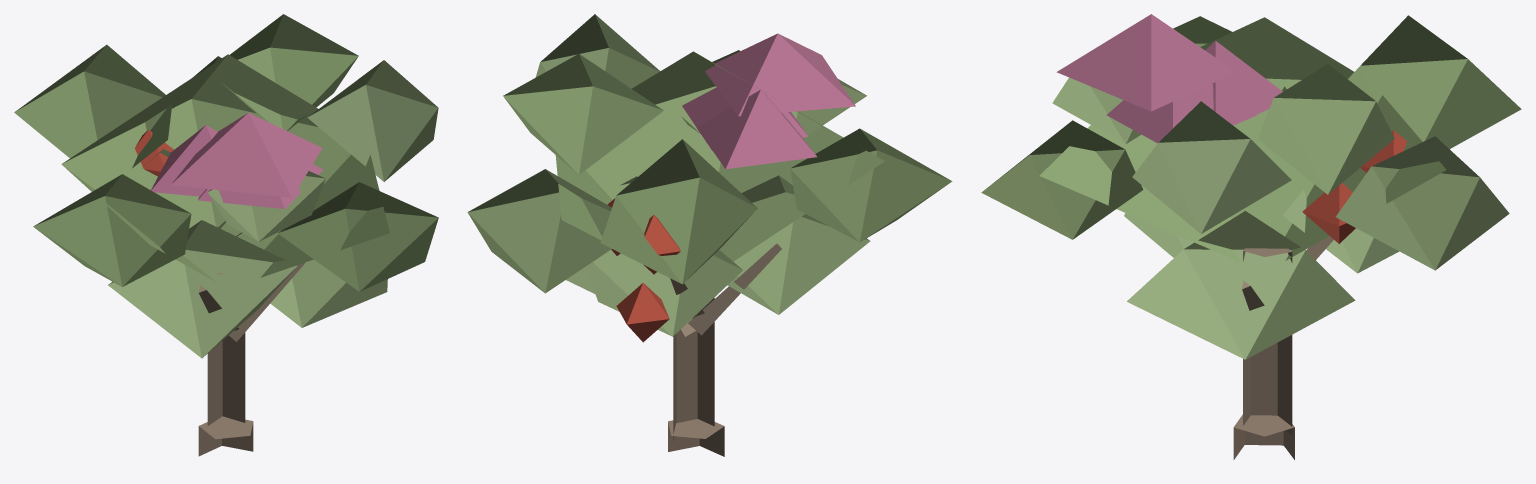
Rendered from tree.sub.tea_oil__summer.glb.
3 views of the same model, side by side, from view 1: azimuth 30°, elevation 25°; view 2: azimuth 150°, elevation 25°; view 3: azimuth 270°, elevation 25° (orthographic). The views are drawn at different scales.
Parts seen in each view (by area): view 1: tree.sub.tea_oil__summer; view 2: tree.sub.tea_oil__summer; view 3: tree.sub.tea_oil__summer.
Boxes of the visible parts, <box> form: tree.sub.tea_oil__summer: <box>14,14,438,456</box>; tree.sub.tea_oil__summer: <box>467,14,952,456</box>; tree.sub.tea_oil__summer: <box>981,14,1521,459</box>.
Size of the model in its own units: 7.08 by 7.16 by 7.99.
